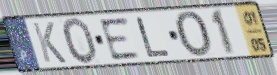1: (210, 7, 239, 58)
E: (97, 16, 143, 62)
K: (30, 21, 69, 65)
L: (135, 16, 173, 59)
O: (173, 10, 214, 59), (62, 17, 100, 67)
